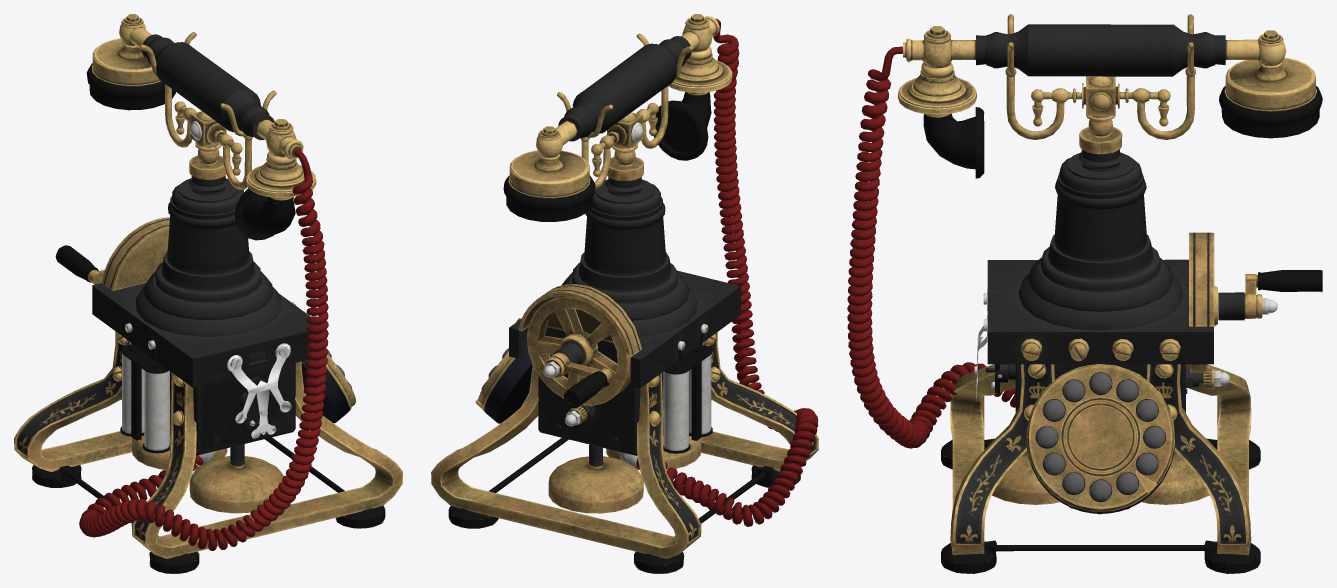
The model's file is L2_Antique3.fbx.
The picture shows the model from 3 angles, left to right: view 1: azimuth 30°, elevation 25°; view 2: azimuth 150°, elevation 25°; view 3: azimuth 270°, elevation 25°; orthographic projection. The views are drawn at different scales.
Visible parts, largest first — view 1: L2_LR_Collectibles4; view 2: L2_LR_Collectibles4; view 3: L2_LR_Collectibles4.
Part boxes in pixels (x1,y1,x2,y2): L2_LR_Collectibles4: [14, 14, 402, 573]; L2_LR_Collectibles4: [431, 14, 818, 573]; L2_LR_Collectibles4: [847, 14, 1322, 573].
Bounding box in the file's own units: 0.1251 × 0.1882 × 0.167.
Materials: 4 (4 with a texture image).
